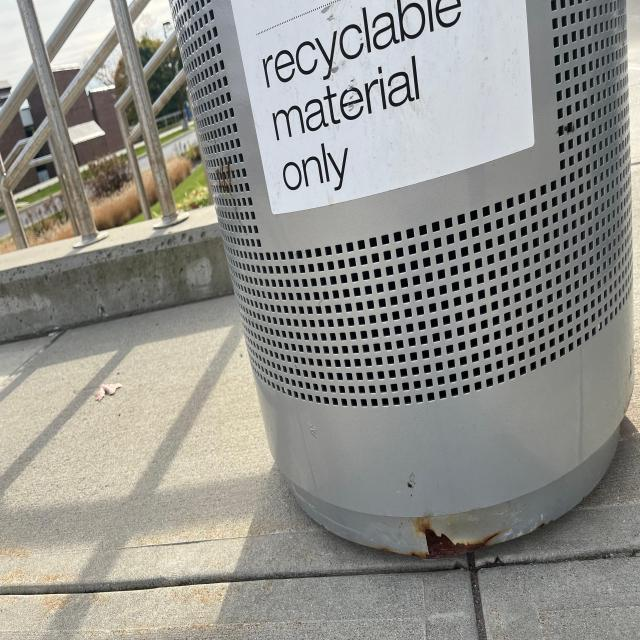Filiform Corrosion: (336, 496, 560, 559), (207, 157, 242, 201)
